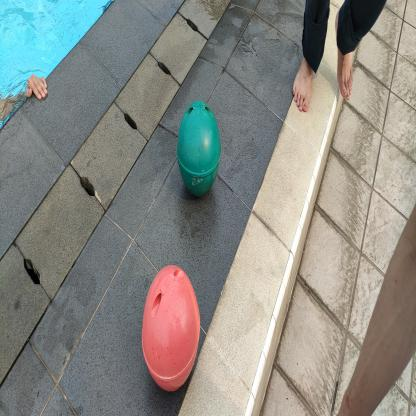green_buoy: (176, 100, 222, 201)
red_buoy: (138, 261, 202, 395)
